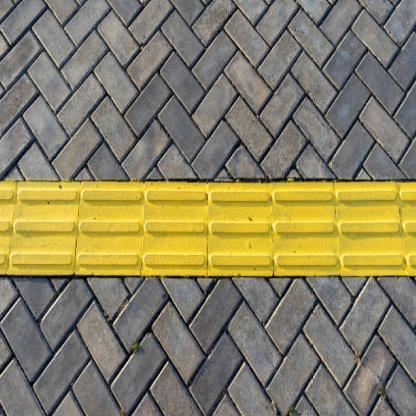podotacti: (0, 182, 414, 277)
